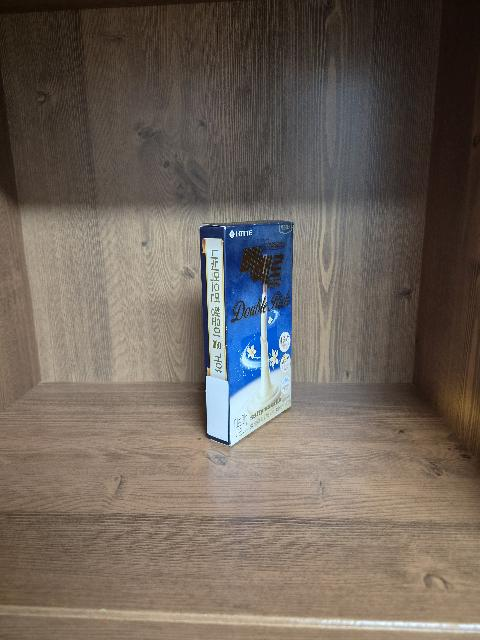pepero: (199, 220, 295, 447)
